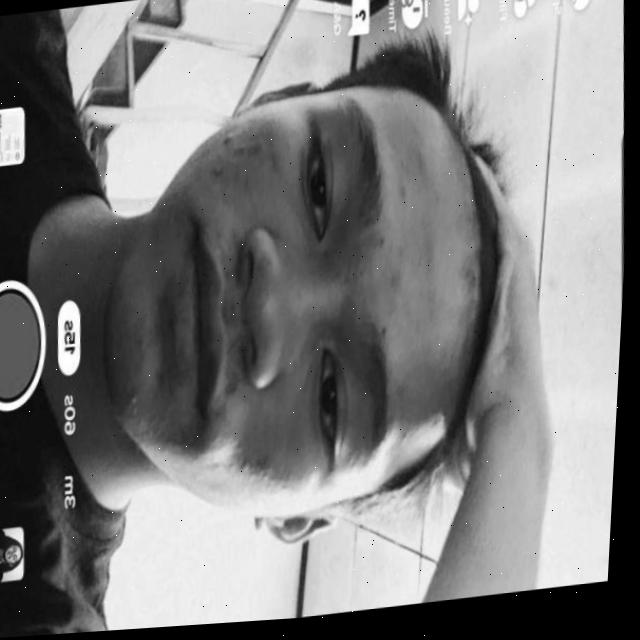Acne: (358, 186, 508, 360), (105, 323, 175, 436), (190, 109, 281, 189), (240, 436, 314, 481)
